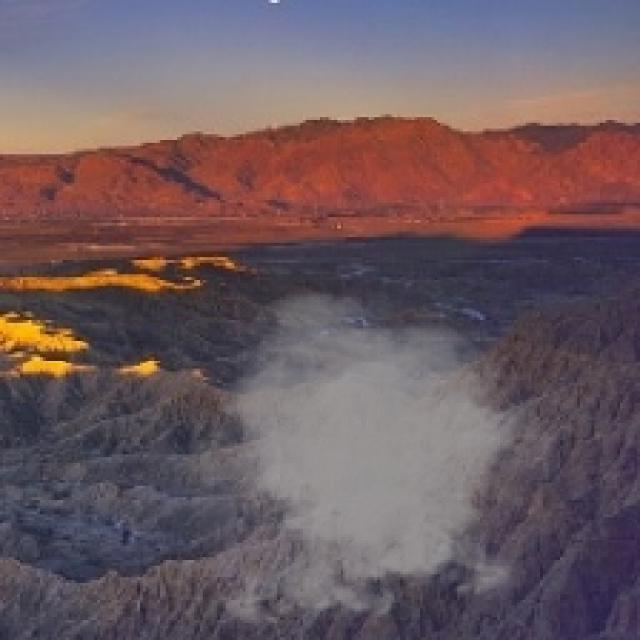smoke: (160, 286, 574, 637)
